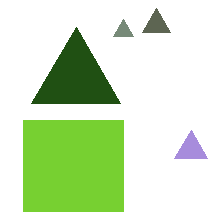rectangle: (23, 120, 123, 211)
triangle: (31, 27, 120, 103), (174, 130, 207, 158), (142, 8, 170, 32), (113, 19, 133, 36)
